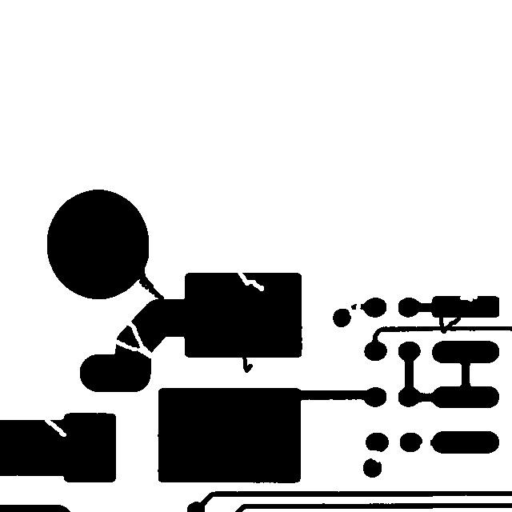mousebite: (31, 404, 74, 444), (230, 262, 271, 298), (452, 286, 485, 309)
open: (107, 304, 164, 369), (339, 291, 368, 326), (358, 442, 393, 470), (412, 428, 438, 455)
short: (118, 246, 171, 308), (431, 303, 469, 341)
spur: (230, 345, 260, 380)
